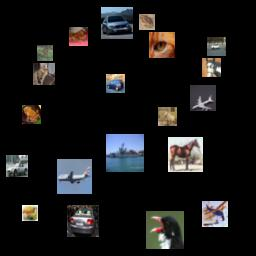airplane: (57, 159, 92, 194), (202, 201, 228, 227), (190, 85, 216, 111)
automobile: (67, 205, 99, 237), (101, 7, 133, 39), (6, 155, 28, 177), (207, 37, 226, 56), (106, 74, 125, 93)
bird: (146, 211, 184, 249)
cat: (149, 32, 175, 58), (33, 63, 55, 85)
deer: (37, 45, 53, 61), (22, 205, 38, 221)
dog: (69, 27, 88, 46)
frog: (22, 105, 41, 124), (139, 14, 155, 30)
ship: (106, 134, 144, 172)
